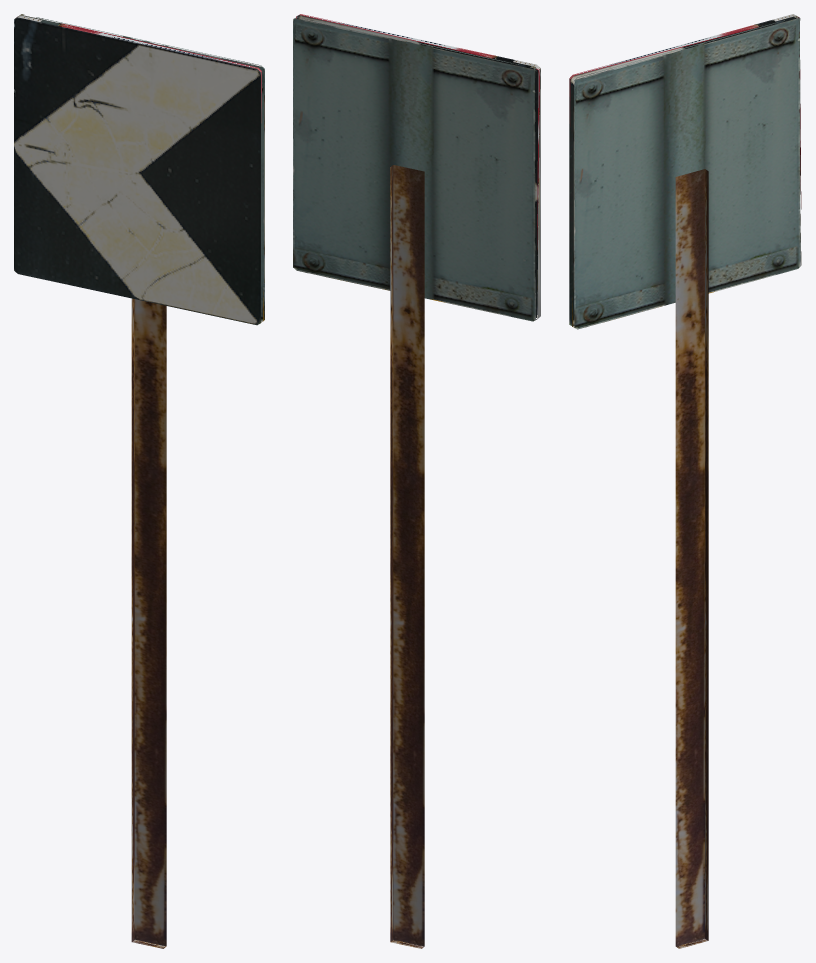
File: left-arrow-sign-dirty.fbx
3 views of the same model, side by side, from view 1: azimuth 30°, elevation 25°; view 2: azimuth 210°, elevation 25°; view 3: azimuth 270°, elevation 25° (orthographic).
Parts seen in each view (by area): view 1: pasted__sign_misc_1, pPlane1; view 2: pasted__sign_misc_1, pPlane1; view 3: pasted__sign_misc_1, pPlane1.
Boxes of the visible parts, x1,y1,x2,y2 form: pasted__sign_misc_1: [14, 14, 264, 325]; pPlane1: [131, 298, 166, 948]; pasted__sign_misc_1: [293, 14, 540, 321]; pPlane1: [390, 165, 424, 948]; pasted__sign_misc_1: [569, 14, 801, 329]; pPlane1: [675, 169, 708, 948].
Size of the model in its own units: 1.06 by 6.71 by 1.59.
